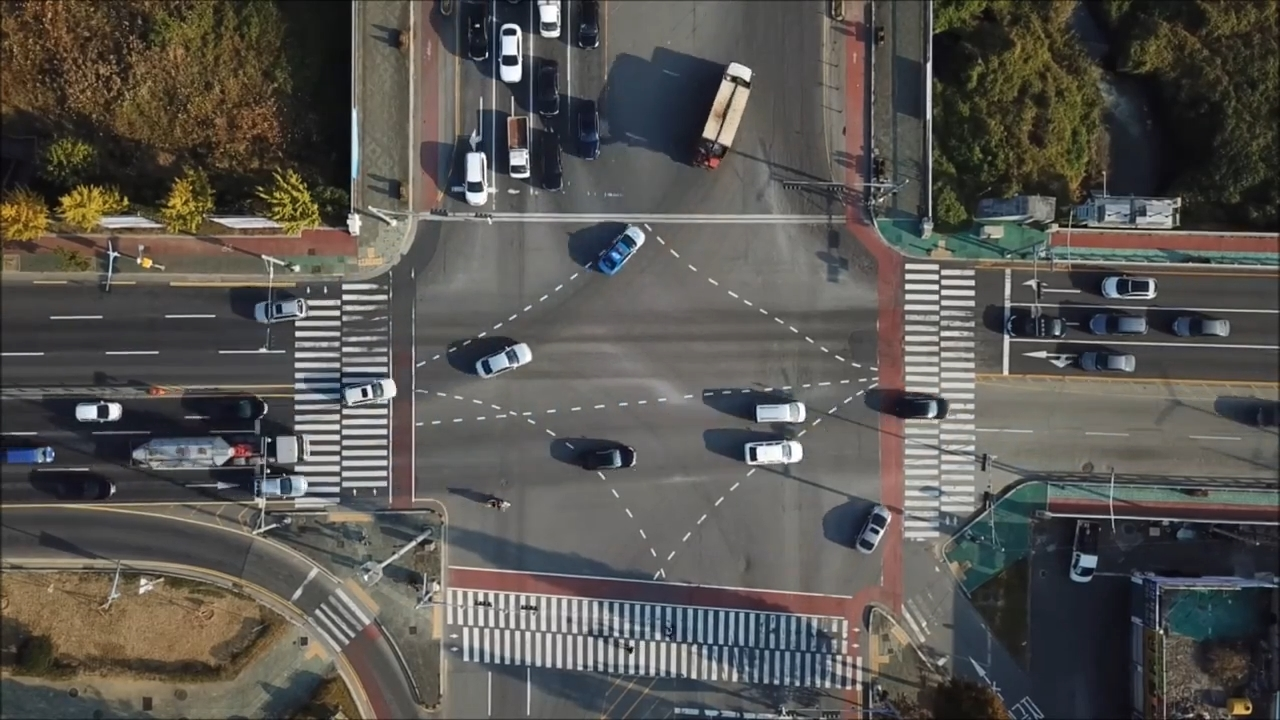car: (690, 61, 754, 174), (127, 436, 317, 468), (593, 220, 646, 277), (474, 338, 534, 381), (852, 503, 895, 557), (1067, 521, 1097, 586), (461, 151, 495, 204), (340, 374, 401, 403), (1099, 274, 1161, 302), (492, 21, 519, 85), (254, 471, 313, 499), (535, 124, 560, 189), (1008, 313, 1072, 337), (207, 397, 267, 422), (505, 117, 529, 179), (580, 446, 635, 473), (532, 60, 557, 119), (1079, 350, 1138, 375), (1091, 315, 1152, 339), (746, 440, 804, 465), (466, 4, 490, 63), (254, 297, 309, 322), (889, 399, 950, 421), (56, 479, 114, 502), (574, 102, 596, 162), (1169, 318, 1234, 338), (752, 402, 805, 425), (70, 400, 125, 422), (2, 445, 57, 465), (573, 1, 595, 50), (533, 1, 559, 36)
